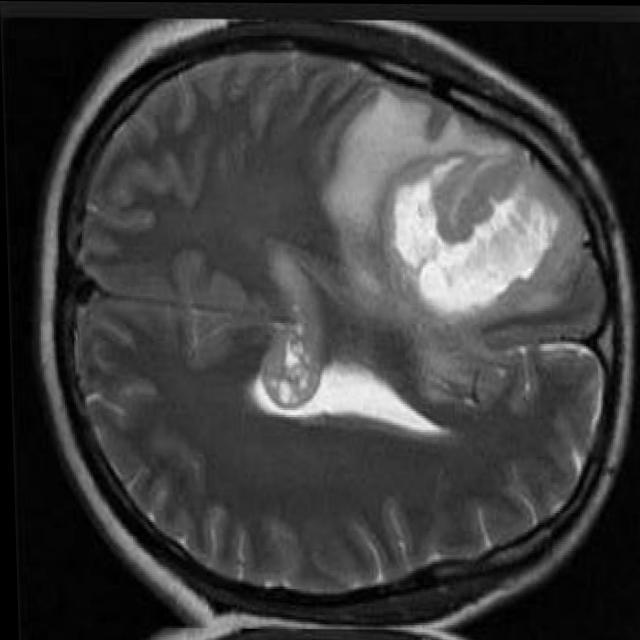Tumor: (378, 151, 560, 318)
